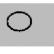no answer: (5, 9, 33, 35)
